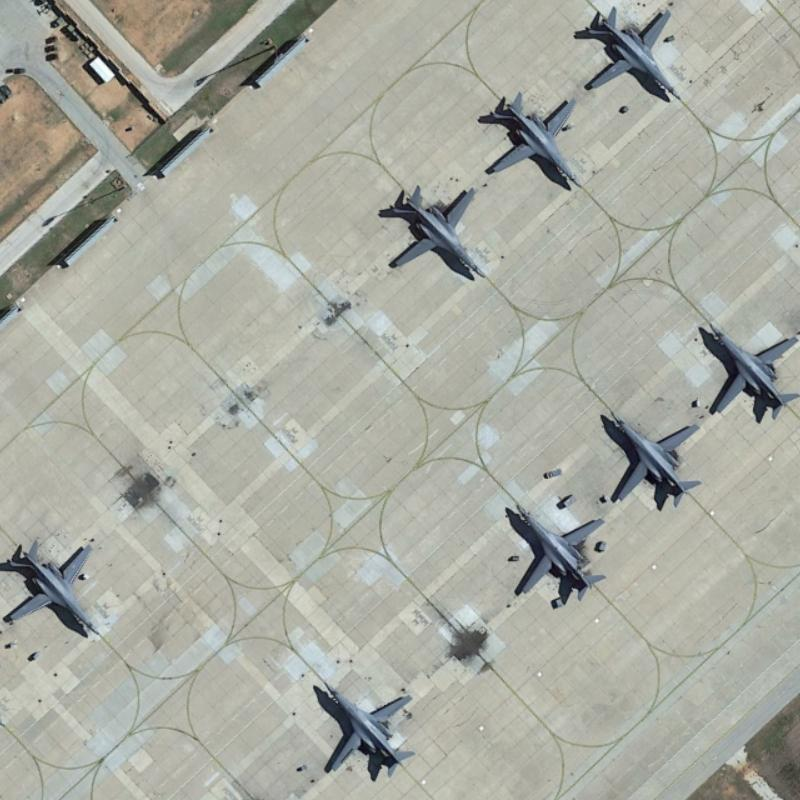A10: (588, 396, 705, 517), (686, 304, 799, 428), (496, 490, 614, 605), (376, 170, 489, 288), (481, 80, 587, 205), (305, 667, 420, 781), (571, 3, 692, 110), (0, 536, 112, 642)
